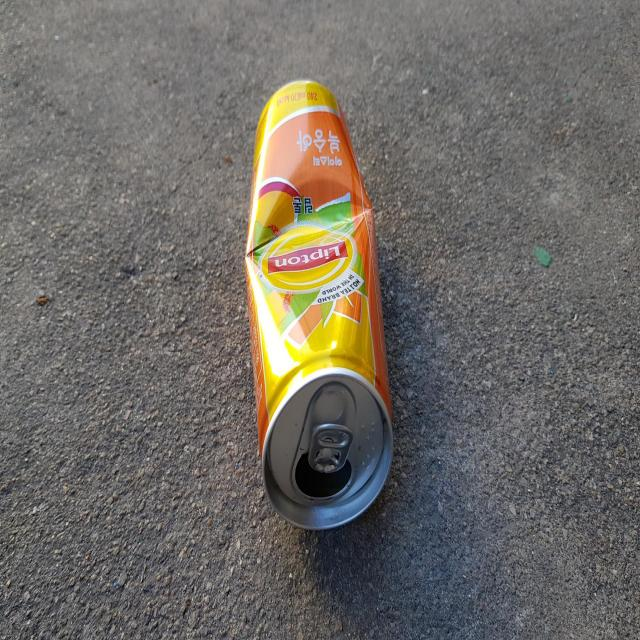can: (246, 80, 393, 529)
